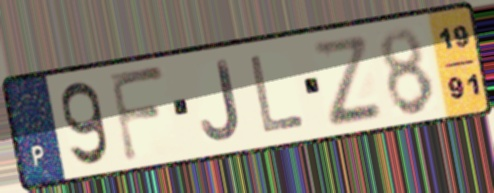8: (378, 25, 438, 117)
9: (58, 78, 111, 167)
F: (106, 64, 169, 165)
J: (198, 57, 243, 143)
L: (246, 52, 309, 137)
Z: (307, 33, 386, 130)
